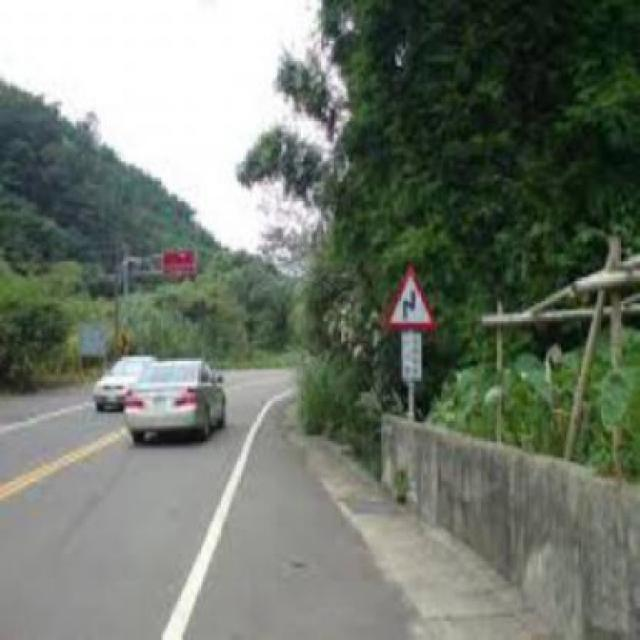traffic_sign: (385, 266, 437, 332)
